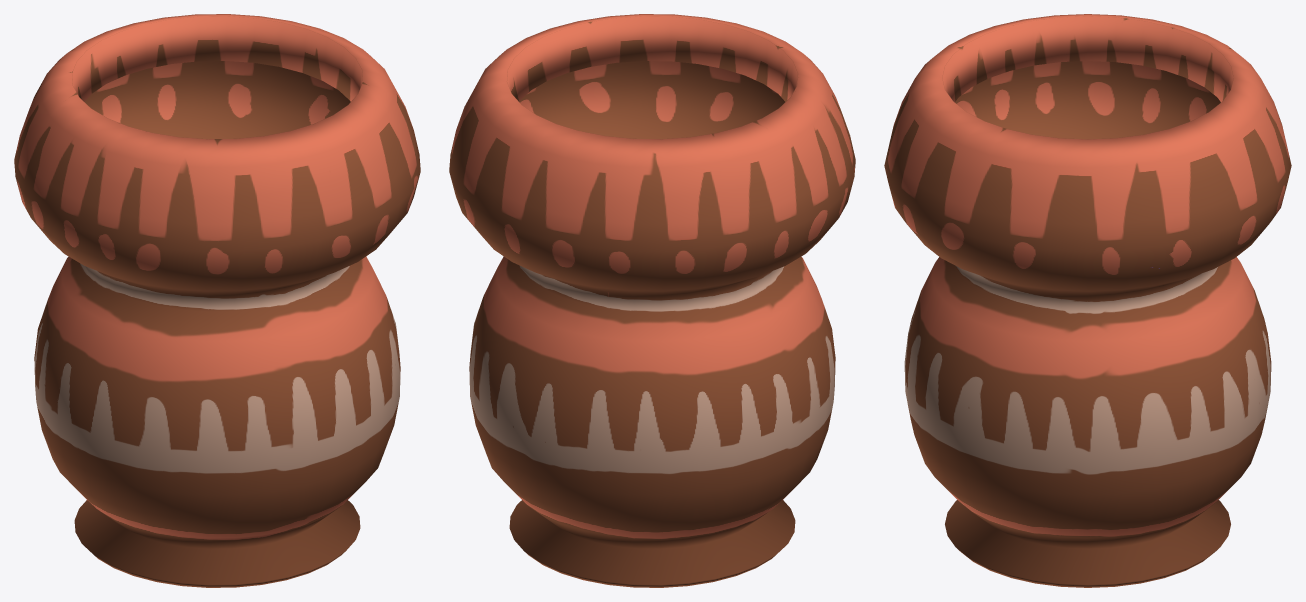
Rendered from Pot_1.fbx.
The picture shows the model from 3 angles, left to right: view 1: azimuth 30°, elevation 25°; view 2: azimuth 150°, elevation 25°; view 3: azimuth 270°, elevation 25°; orthographic projection.
Parts seen in each view (by area): view 1: Plane; view 2: Plane; view 3: Plane.
Part boxes in pixels (x1,y1,x2,y2): Plane: [14, 14, 420, 587]; Plane: [449, 14, 855, 587]; Plane: [884, 14, 1291, 587].
Bounding box in the file's own units: 147 × 181 × 147.
